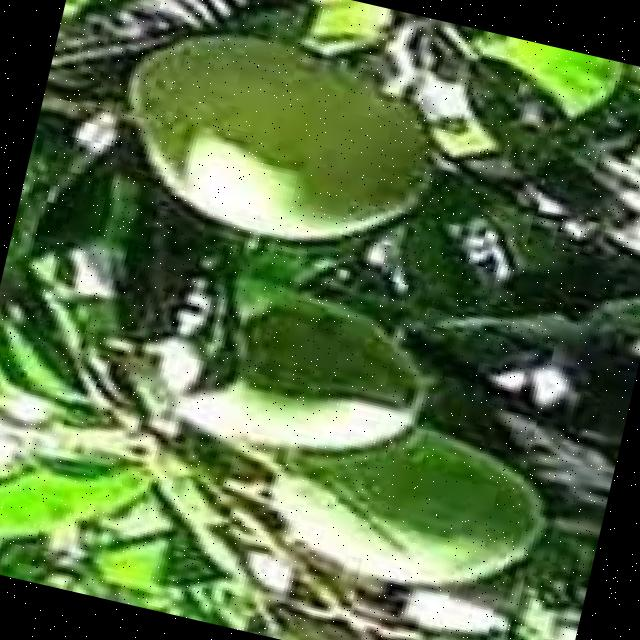mango: (126, 30, 441, 241)
